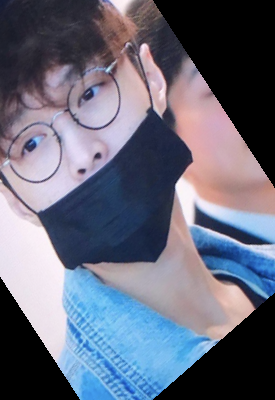mask_weared_incorrect: (1, 3, 197, 272)
